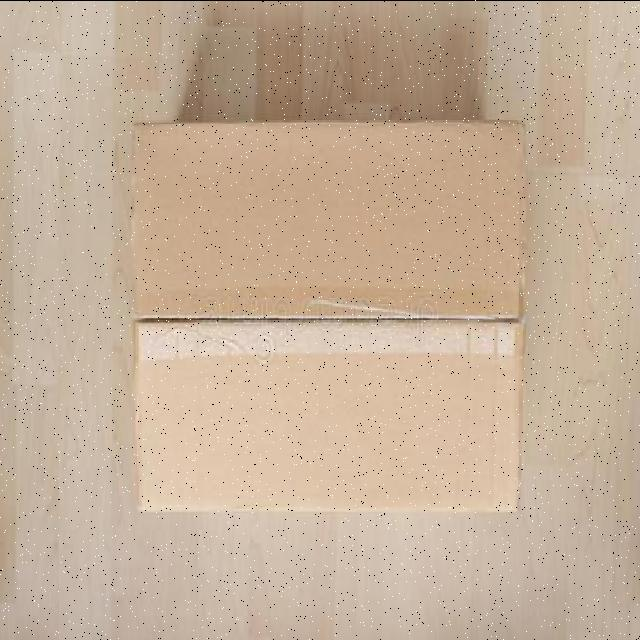normal: (126, 111, 529, 515)
